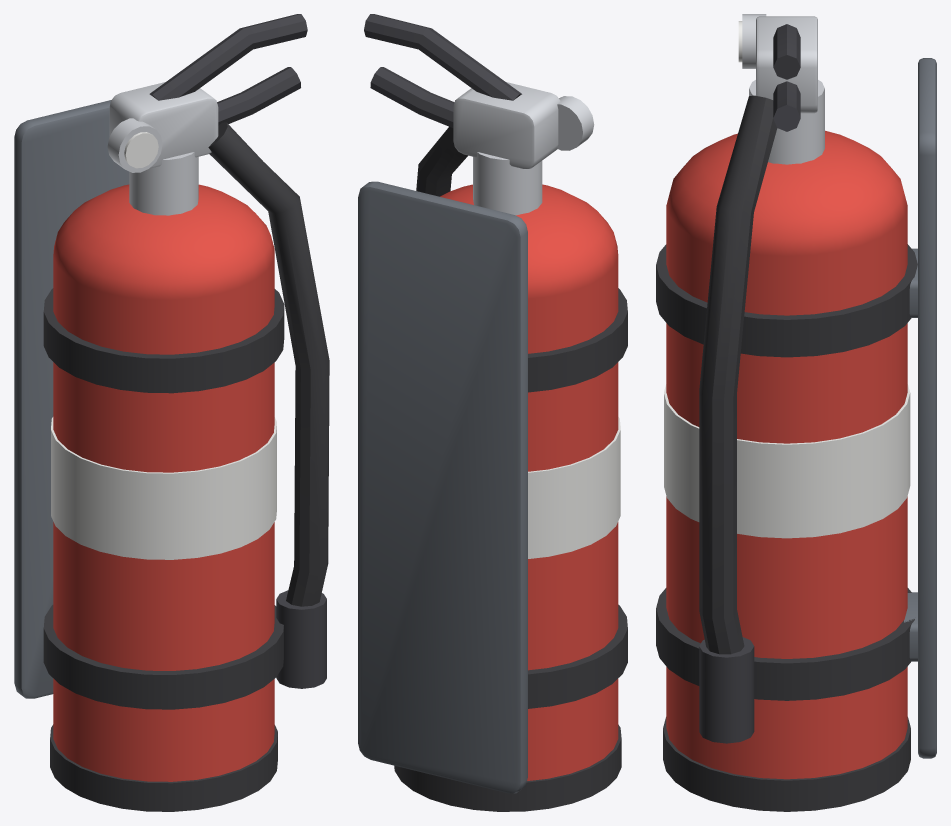
The model's file is SM_IncExtinguisher.fbx.
3 renders of one model, left to right at view 1: azimuth 30°, elevation 25°; view 2: azimuth 150°, elevation 25°; view 3: azimuth 270°, elevation 25°, orthographic. The views are drawn at different scales.
Parts seen in each view (by area): view 1: ExtBottle, ExtBracket; view 2: ExtBracket, ExtBottle; view 3: ExtBottle, ExtBracket.
Part boxes in pixels (box(x1,y1,x2,y2)): ExtBottle: box(50, 14, 329, 811); ExtBracket: box(14, 100, 284, 709); ExtBracket: box(358, 181, 627, 793); ExtBottle: box(364, 14, 621, 811); ExtBottle: box(663, 14, 910, 811); ExtBracket: box(656, 58, 936, 758).
Size of the model in its own units: 0.176 by 0.498 by 0.163.
